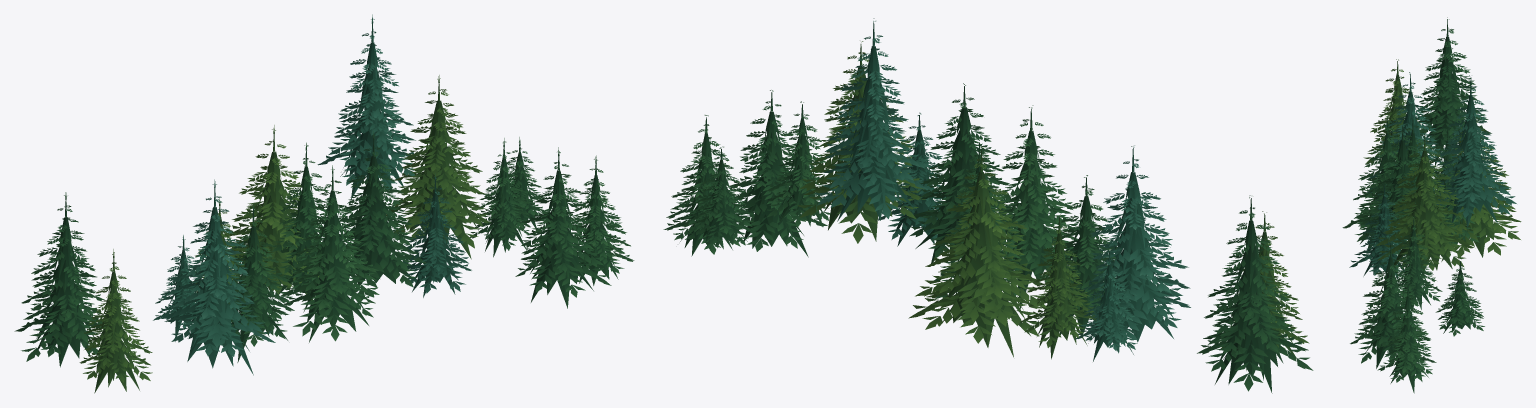
3 views of the same model, side by side, from view 1: azimuth 30°, elevation 25°; view 2: azimuth 150°, elevation 25°; view 3: azimuth 270°, elevation 25° (orthographic). The views are drawn at different scales.
Visible parts, largest first — view 1: pn_19; view 2: pn_19; view 3: pn_19.
Part boxes in pixels (left/top/right/bottom): pn_19: left=14, top=14, right=634, bottom=393; pn_19: left=663, top=18, right=1313, bottom=393; pn_19: left=1342, top=17, right=1521, bottom=393.
Bounding box in the file's own units: 57.54 × 26.63 × 18.31.
Materials: 1 (1 with a texture image).
